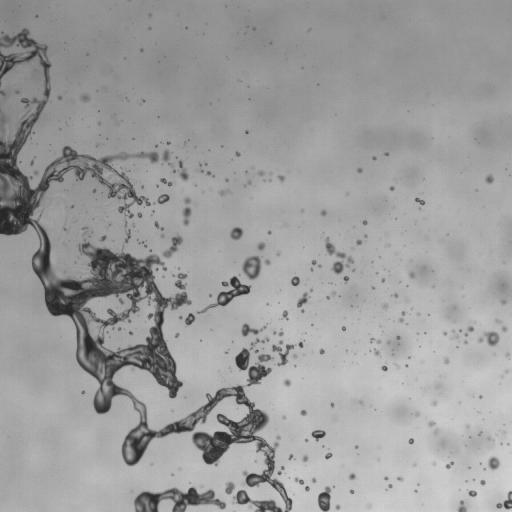droplet: (325, 237, 353, 274), (272, 340, 294, 365), (242, 256, 261, 280), (317, 486, 331, 511), (477, 331, 499, 346), (496, 491, 511, 509), (297, 292, 309, 307), (230, 227, 243, 239), (311, 429, 325, 440), (488, 456, 499, 470), (184, 313, 195, 325), (225, 481, 235, 494), (156, 194, 169, 203), (82, 225, 93, 235), (457, 500, 466, 511), (485, 174, 493, 183), (291, 276, 299, 285), (281, 310, 288, 320), (451, 329, 458, 339), (257, 242, 265, 250), (80, 94, 89, 101), (415, 198, 424, 205), (294, 477, 303, 484), (468, 490, 477, 497), (273, 330, 283, 336), (283, 379, 291, 386), (445, 461, 453, 468), (373, 349, 380, 356), (257, 170, 265, 176), (184, 197, 190, 204), (409, 271, 415, 278), (325, 452, 332, 458), (219, 190, 227, 195), (278, 175, 284, 181), (100, 235, 106, 241), (264, 259, 270, 265), (501, 326, 507, 332), (381, 365, 387, 371), (300, 409, 306, 415), (349, 473, 355, 479), (62, 226, 69, 231), (298, 341, 303, 348), (428, 421, 435, 426), (14, 88, 19, 94), (356, 239, 361, 245), (343, 276, 348, 282), (382, 303, 387, 309), (444, 357, 449, 363), (302, 455, 307, 461), (397, 476, 403, 481), (235, 151, 240, 156), (321, 210, 326, 215), (319, 349, 324, 354), (431, 401, 436, 406), (415, 411, 419, 417), (409, 438, 413, 444), (357, 168, 362, 172), (389, 186, 394, 190), (137, 212, 141, 217), (362, 220, 367, 224), (123, 222, 127, 227), (312, 260, 316, 265), (331, 291, 335, 296), (393, 293, 398, 297), (341, 326, 346, 330), (289, 454, 293, 459), (480, 480, 485, 484), (305, 486, 309, 491), (335, 505, 340, 509), (142, 242, 146, 246), (381, 278, 385, 282), (501, 300, 505, 304), (496, 319, 500, 323), (443, 331, 447, 335), (175, 333, 179, 337), (293, 354, 297, 358), (434, 429, 438, 433), (384, 476, 388, 480), (349, 489, 353, 493), (34, 170, 37, 175), (166, 141, 170, 144), (30, 160, 33, 164), (92, 189, 96, 192), (276, 252, 280, 255), (129, 331, 132, 335), (506, 353, 509, 357), (282, 415, 286, 418), (312, 478, 315, 482), (388, 484, 392, 487), (58, 96, 61, 99), (385, 152, 388, 155), (268, 231, 271, 234), (179, 316, 182, 319), (397, 336, 400, 339), (464, 340, 467, 343), (225, 350, 228, 353), (395, 364, 398, 367), (331, 403, 334, 406), (502, 430, 505, 433), (478, 432, 481, 435), (355, 445, 358, 448), (504, 370, 508, 372), (245, 131, 248, 133), (373, 156, 375, 159), (225, 179, 228, 181), (71, 205, 73, 208), (161, 234, 163, 237), (318, 264, 320, 267), (310, 268, 313, 270), (301, 310, 304, 312), (118, 327, 120, 330), (479, 395, 481, 398), (140, 49, 142, 51), (372, 286, 374, 288), (310, 289, 312, 291), (327, 296, 329, 298), (459, 330, 461, 332), (387, 341, 389, 343), (82, 391, 84, 393), (359, 401, 361, 403), (466, 425, 468, 427), (305, 439, 307, 441), (433, 462, 435, 464), (369, 505, 371, 507)
ligament: (0, 29, 290, 511), (133, 486, 225, 511), (198, 276, 251, 313), (162, 235, 182, 258), (241, 323, 267, 336), (182, 206, 191, 225), (464, 325, 474, 336), (160, 178, 172, 186), (124, 229, 130, 244), (398, 311, 405, 322), (154, 222, 162, 229), (278, 466, 284, 475), (370, 338, 380, 343), (105, 223, 111, 229), (206, 171, 213, 176), (244, 181, 251, 186), (487, 437, 493, 440)
